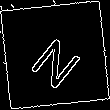N_NE: (23, 23, 87, 87)
